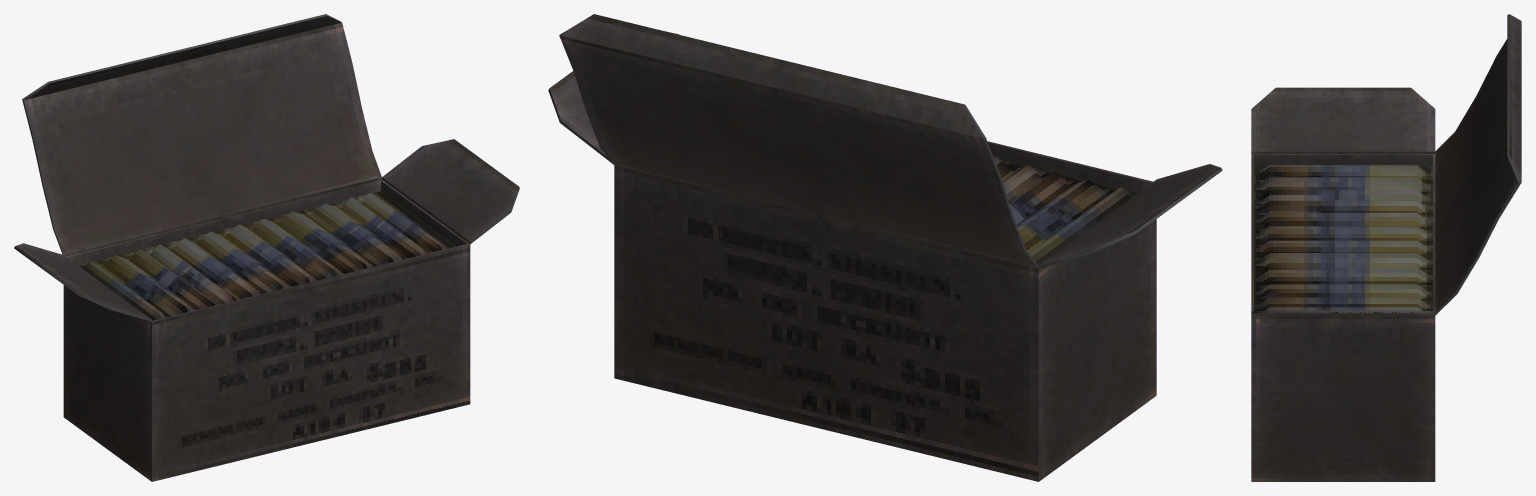
File: ammo_box_mp_5.glb
3 renders of one model, left to right at view 1: azimuth 30°, elevation 25°; view 2: azimuth 150°, elevation 25°; view 3: azimuth 270°, elevation 25°, orthographic. The views are drawn at different scales.
Visible parts, largest first — view 1: ammo_box_mp_5; view 2: ammo_box_mp_5; view 3: ammo_box_mp_5.
Boxes of the visible parts, x1,y1,x2,y2 form: ammo_box_mp_5: (14,14,519,481); ammo_box_mp_5: (548,14,1222,481); ammo_box_mp_5: (1251,14,1521,481).
Bounding box in the file's own units: 0.2806 × 0.1851 × 0.1431.
1 material, 1 textured.
